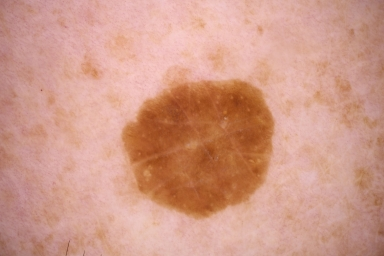nevus: (120, 83, 272, 220)
